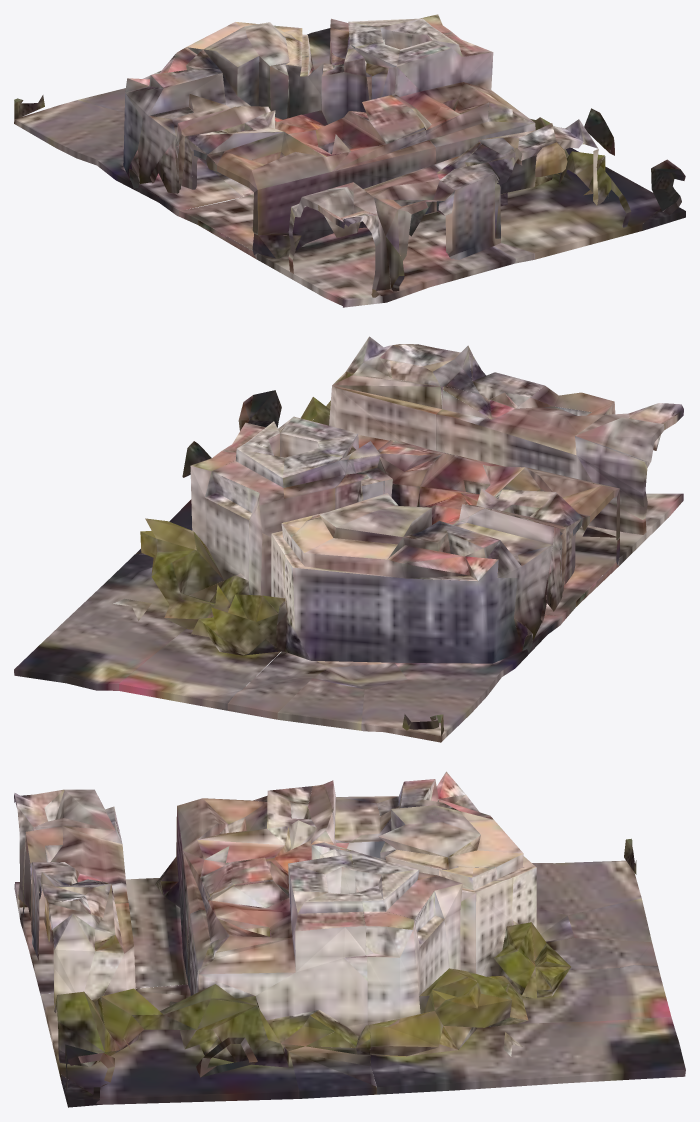
The picture shows the model from 3 angles, top to bottom: view 1: azimuth 30°, elevation 25°; view 2: azimuth 150°, elevation 25°; view 3: azimuth 270°, elevation 25°; orthographic projection. The views are drawn at different scales.
Parts seen in each view (by area): view 1: Mesh_0; view 2: Mesh_0; view 3: Mesh_0.
Part boxes in pixels (<box>): Mesh_0: <box>14,14,685,307</box>; Mesh_0: <box>14,336,683,742</box>; Mesh_0: <box>14,771,685,1107</box>.
Bounding box in the file's own units: 133 × 40.49 × 165.
Materials: 2 (2 with a texture image).
